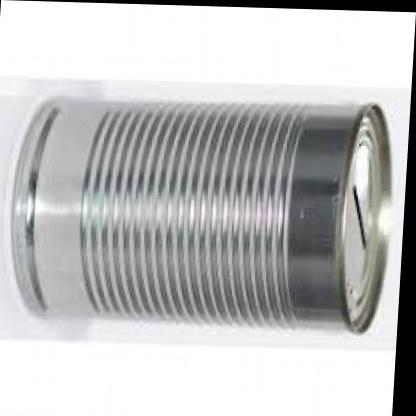Metal: (0, 54, 404, 347)
